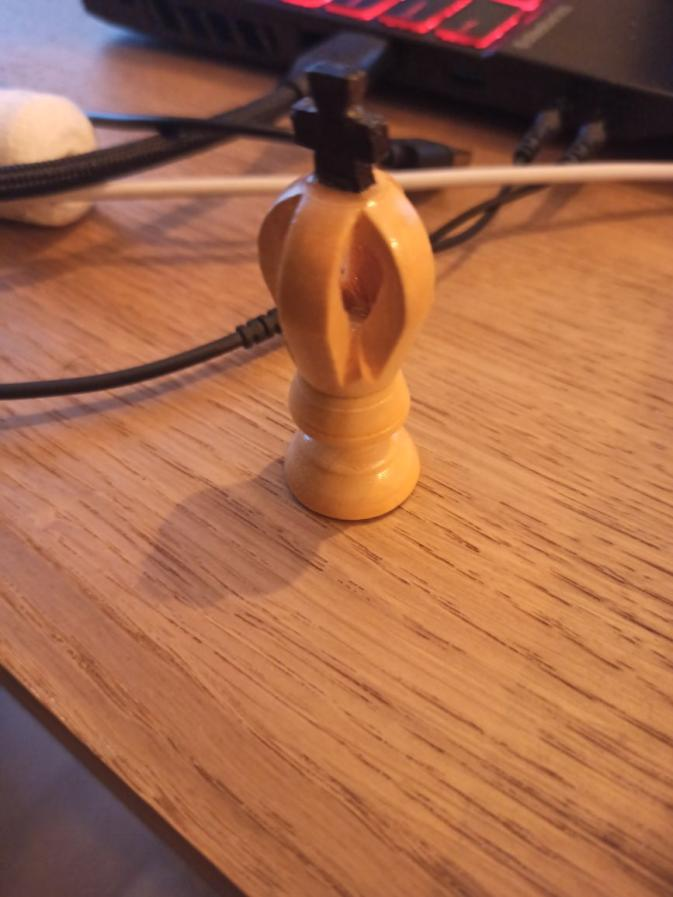wking: (255, 63, 431, 525)
